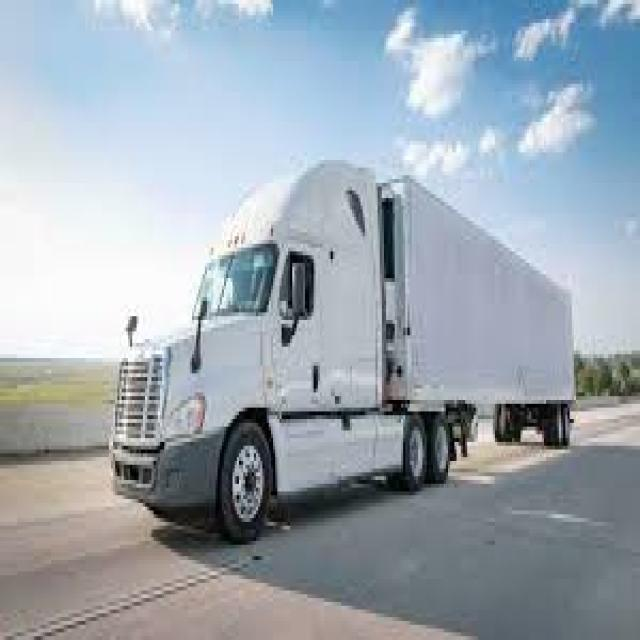covered: (106, 152, 576, 541)
